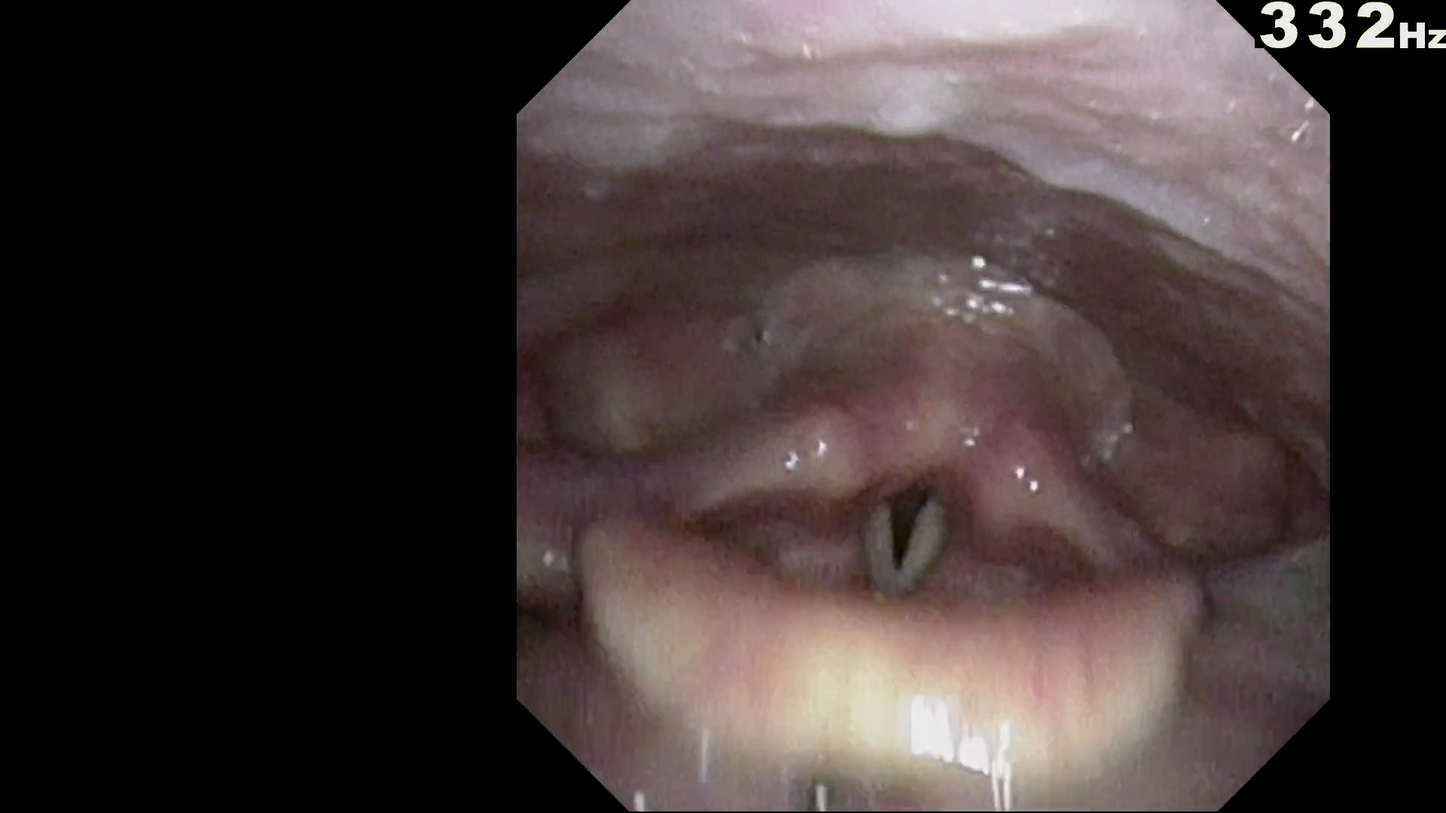epiglottis: (613, 579, 1219, 786)
trachea: (851, 444, 985, 607)
